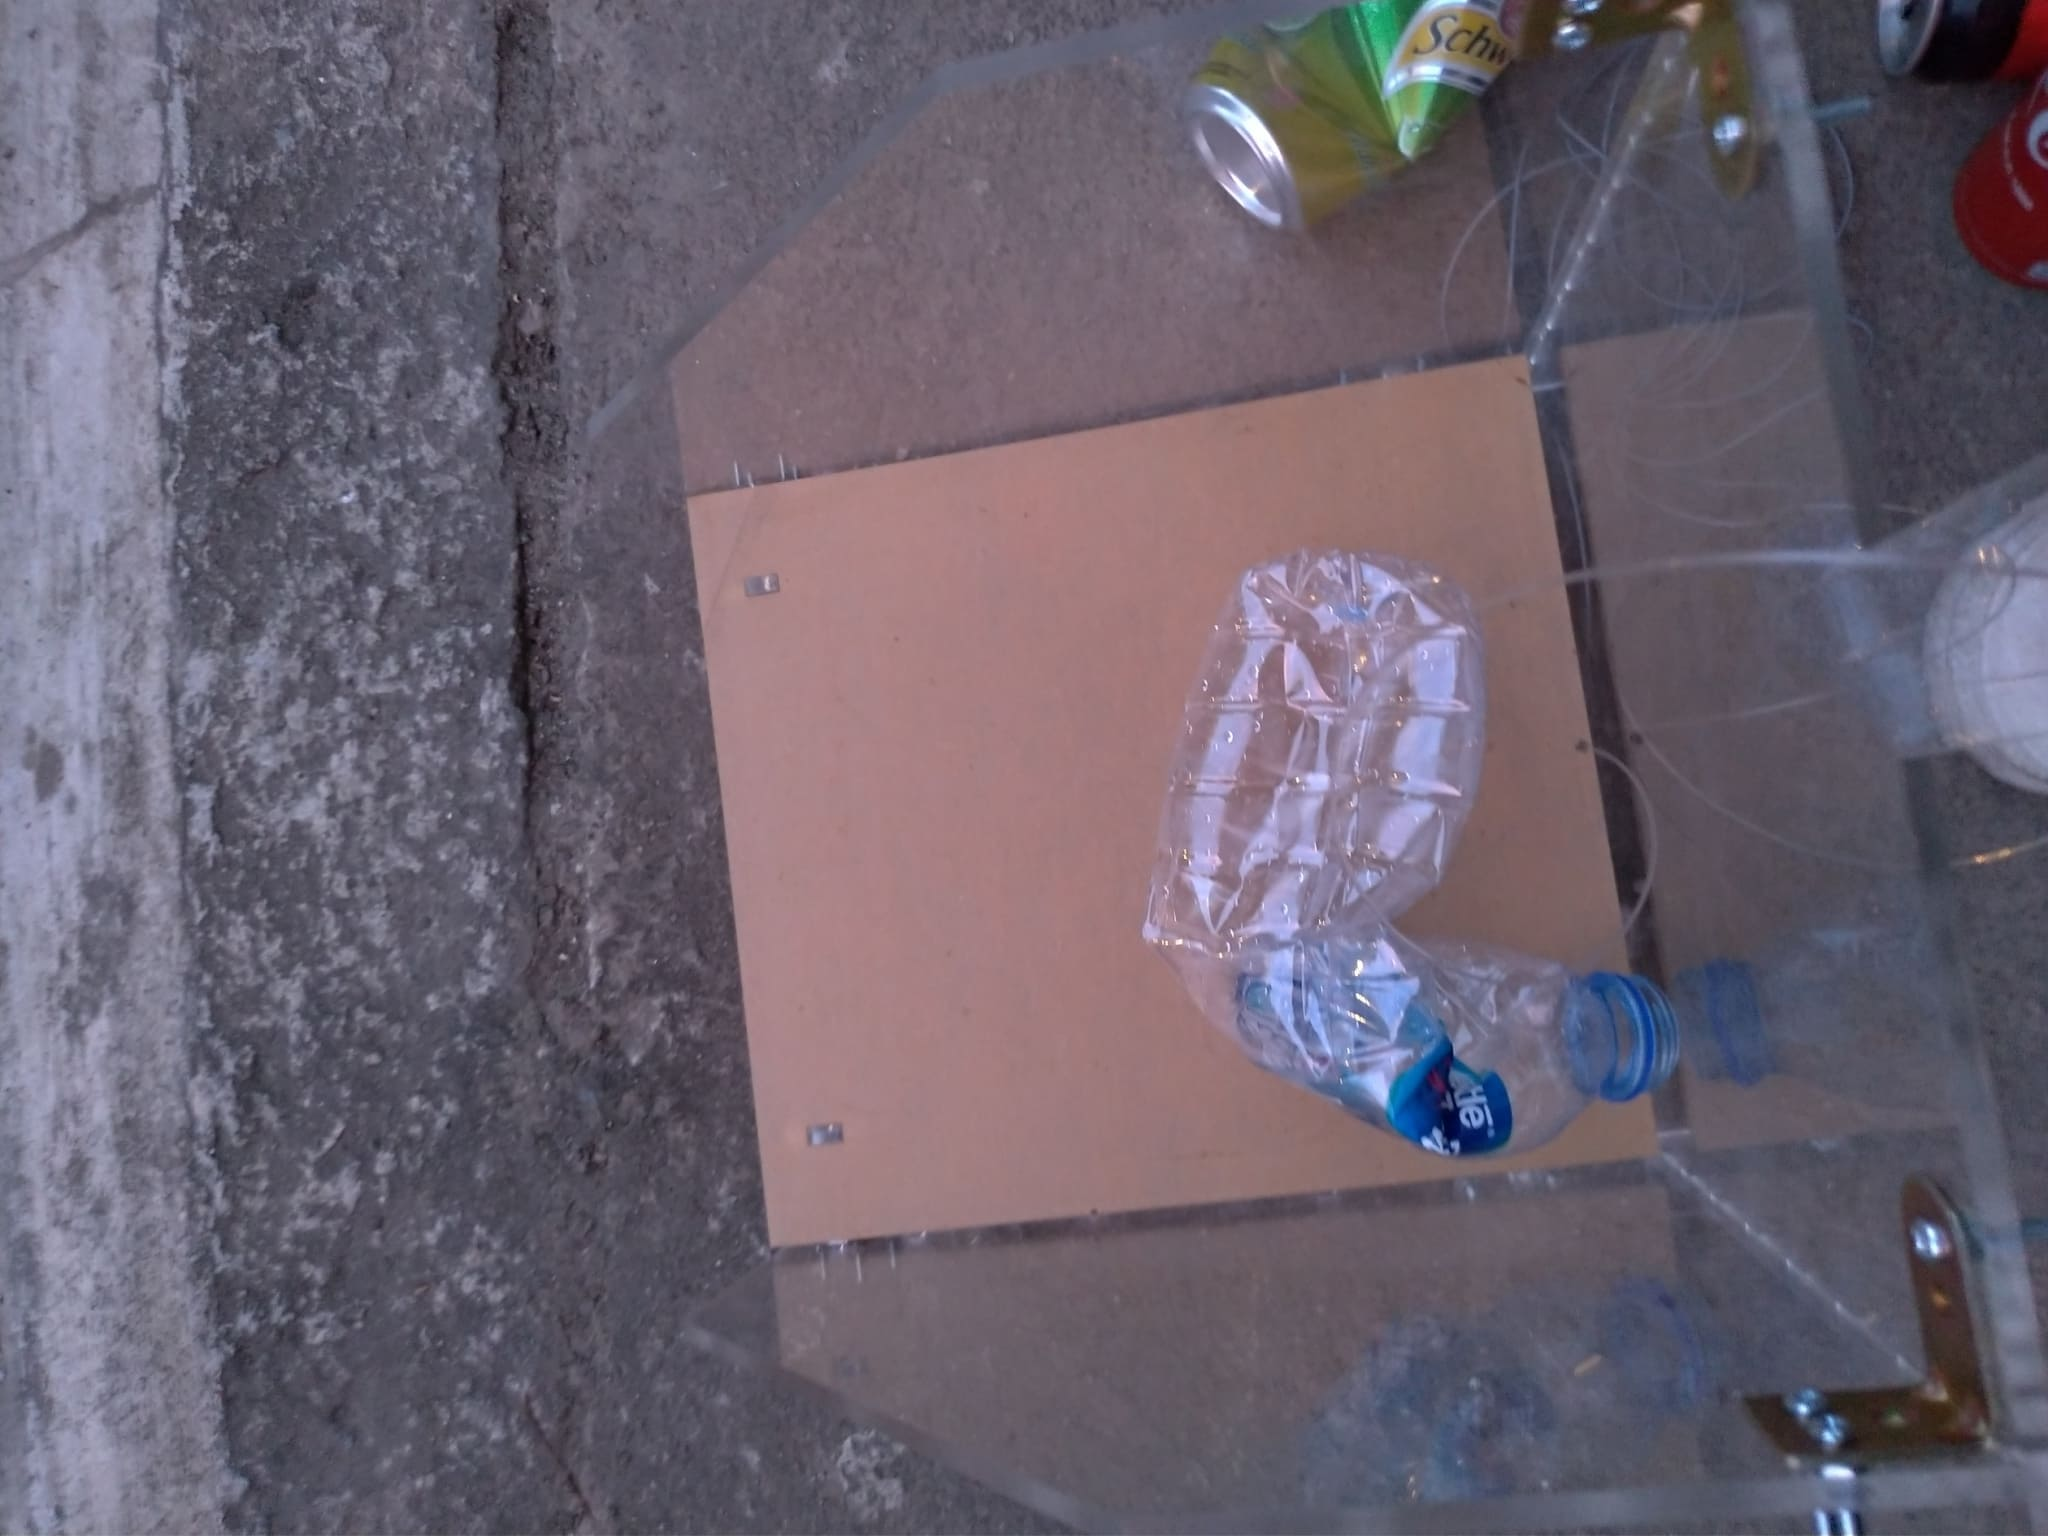AlCan: (1182, 6, 1538, 240), (1954, 100, 2048, 287), (1875, 3, 2046, 100)
PlasticBottle: (1138, 550, 1682, 1160)
